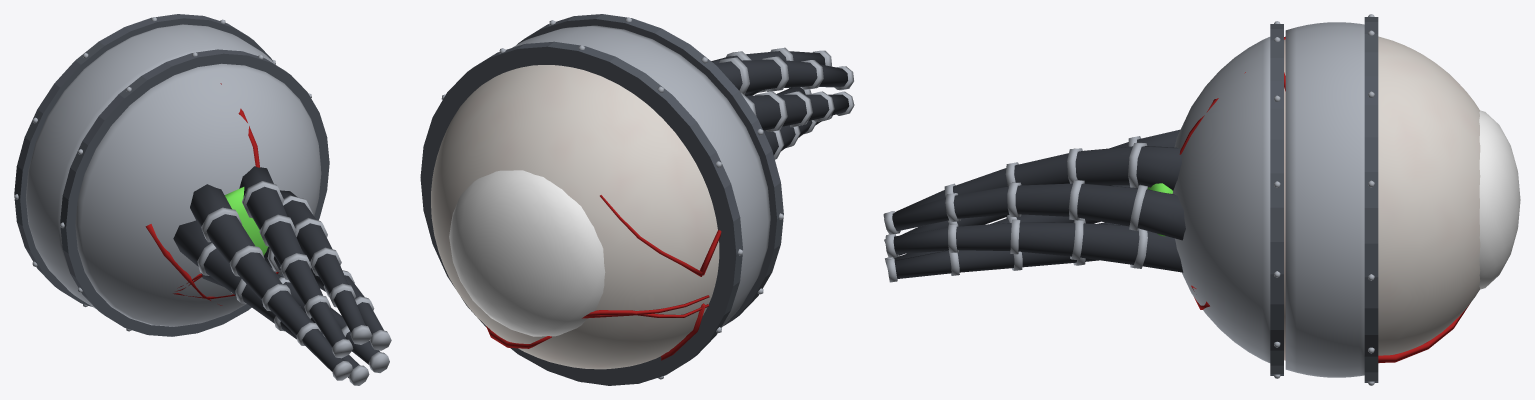
The model's file is spazmatism.glb.
3 renders of one model, left to right at view 1: azimuth 30°, elevation 25°; view 2: azimuth 150°, elevation 25°; view 3: azimuth 270°, elevation 25°, orthographic. The views are drawn at different scales.
Parts seen in each view (by area): view 1: spazmatism; view 2: spazmatism; view 3: spazmatism.
Boxes of the visible parts, box(x1,y1,x2,y2) form: spazmatism: box(14, 14, 391, 385); spazmatism: box(420, 14, 854, 385); spazmatism: box(883, 14, 1520, 385).
Size of the model in its own units: 2.84 by 2.84 by 4.84.
